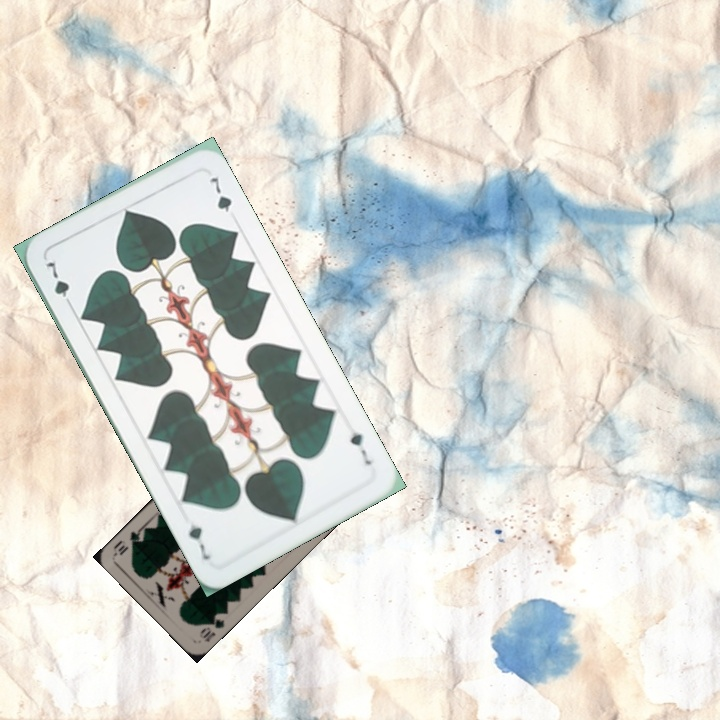G10: (196, 609, 227, 644)
G7: (41, 257, 75, 310), (345, 427, 375, 468)
